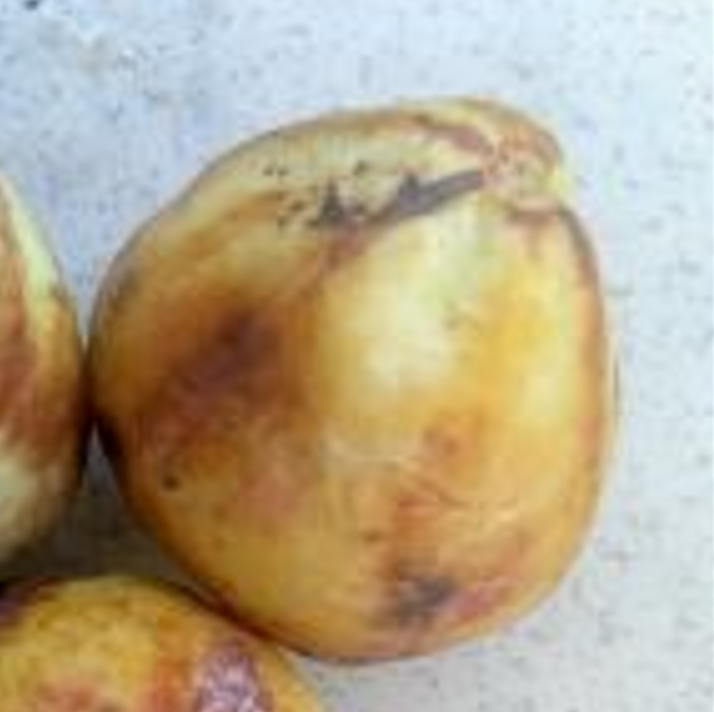guava_C: (85, 104, 620, 667)
